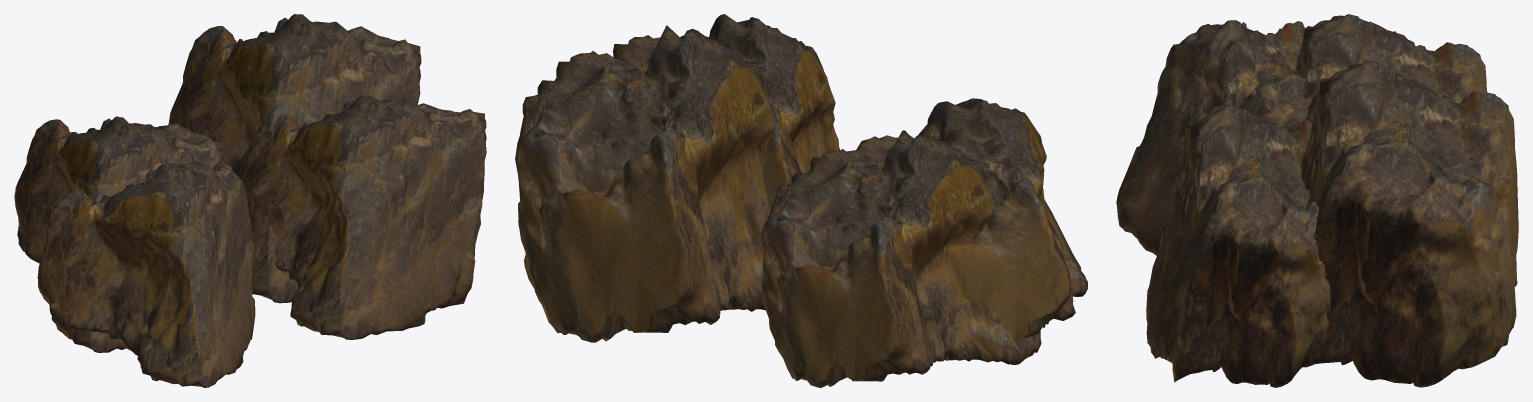
File: cliff-3.obj
3 views of the same model, side by side, from view 1: azimuth 30°, elevation 25°; view 2: azimuth 150°, elevation 25°; view 3: azimuth 270°, elevation 25° (orthographic). The views are drawn at different scales.
Parts seen in each view (by area): view 1: cliff-3; view 2: cliff-3; view 3: cliff-3.
Part boxes in pixels (left/top/right/bottom): cliff-3: left=14, top=14, right=486, bottom=387; cliff-3: left=515, top=14, right=1087, bottom=387; cliff-3: left=1116, top=14, right=1518, bottom=387.
Size of the model in its own units: 7.55 by 4.26 by 5.52.
Materials: 1 (1 with a texture image).
